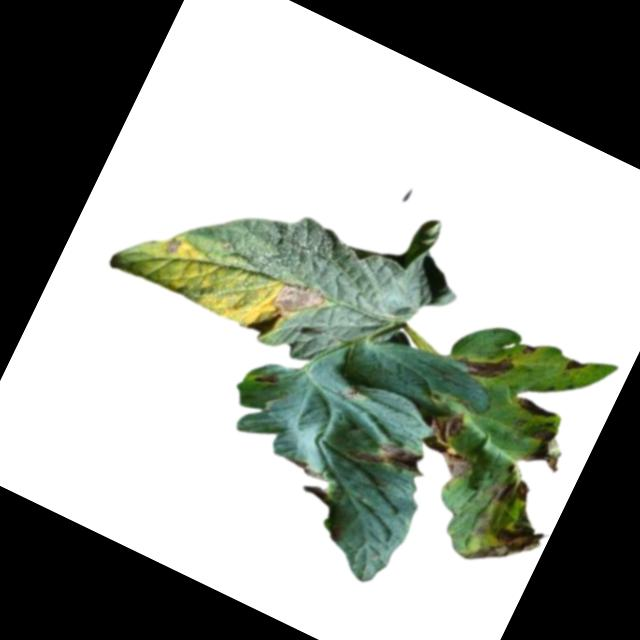Early_blight: (463, 497, 552, 589), (415, 402, 492, 483), (349, 425, 427, 488), (268, 271, 328, 327), (458, 338, 517, 389), (482, 462, 534, 513), (524, 422, 574, 475), (513, 390, 560, 425), (253, 364, 283, 392), (161, 232, 186, 258), (562, 351, 587, 377), (520, 339, 537, 356)
